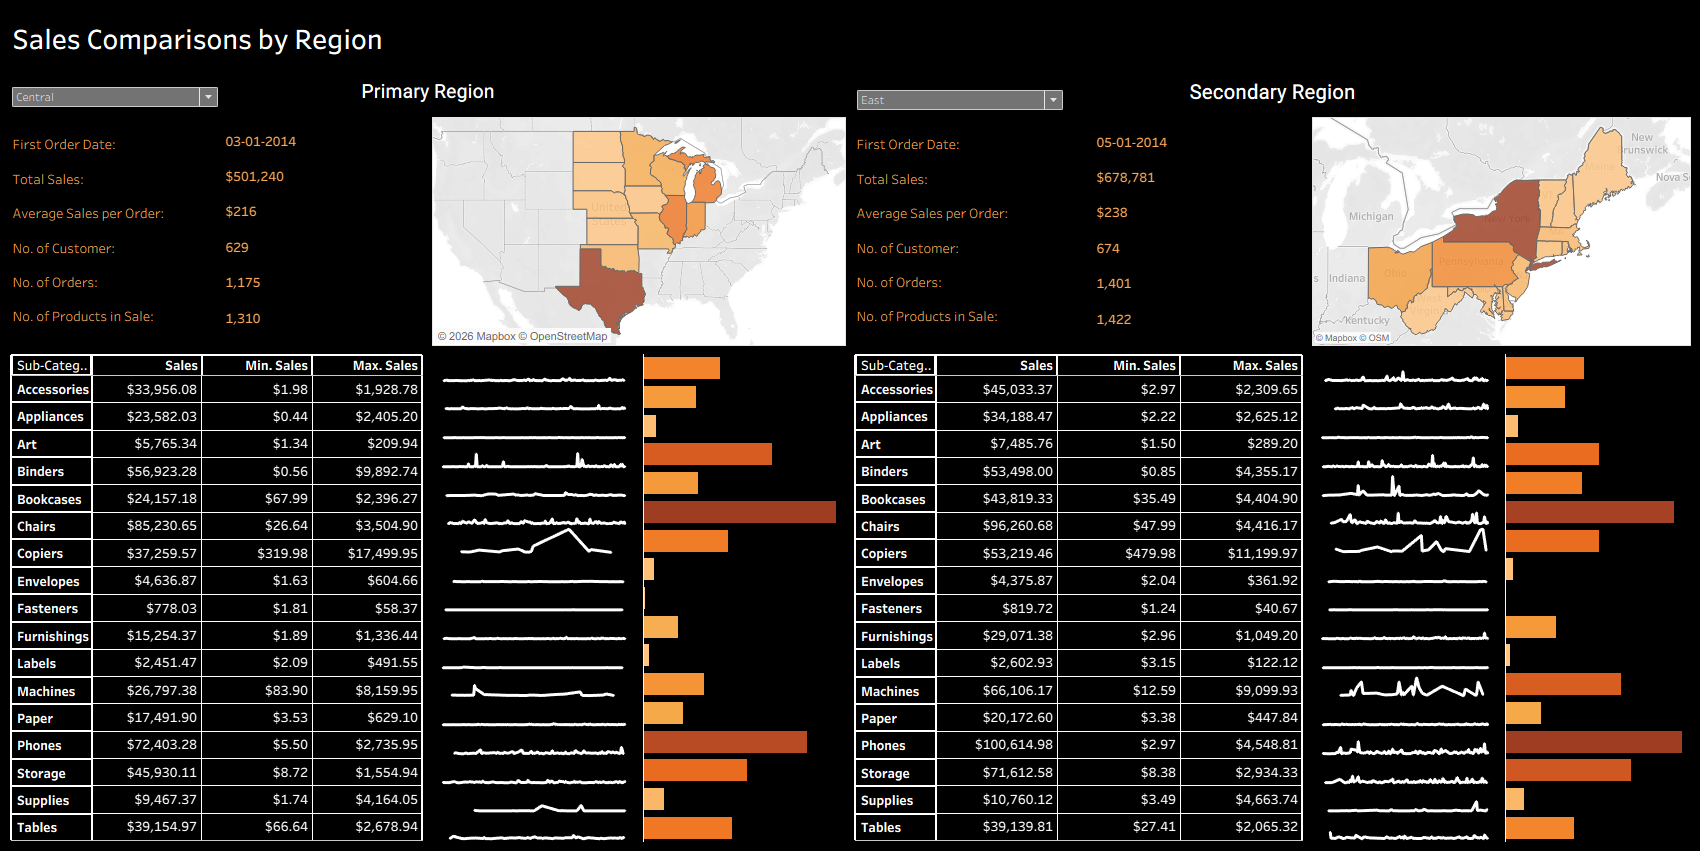

Layout of this report page (visuals, bound fields, positions):
{"tool":"tableau","page":{"name":"Dashboard","canvas":[1000,1000],"units":"permille","ordinal":0},"visuals":[{"type":"text","box":[4.7,9.3,990.6,74.8]},{"type":"text","box":[4.7,84.1,495.3,50.2]},{"type":"text","box":[500,84.1,495.3,50.2]},{"type":"filter","title":"Pr-Map","param":"[federated.1twyp2o1gfbzs41ac3lxf0hi6o0t].[none:Region:nk]","box":[6.4,101.6,124.6,28]},{"type":"filter","title":"SC-Map ","param":"[federated.1twyp2o1gfbzs41ac3lxf0hi6o0t].[none:Region:nk]","box":[502.1,104,124,30.4]},{"type":"text","box":[4.7,134.3,123.8,276.9]},{"type":"worksheet","title":"Pr-Measures","mark":"Automatic","box":[128.5,134.3,123.9,276.9]},{"type":"worksheet","title":"Pr-Map","mark":"Automatic","box":[252.3,134.3,247.7,276.9]},{"type":"text","box":[500,134.3,139.5,276.9]},{"type":"worksheet","title":"SC-Measures","mark":"Automatic","box":[639.4,134.3,129,276.9]},{"type":"worksheet","title":"SC-Map ","mark":"Automatic","box":[768.5,134.3,226.8,276.9]},{"type":"worksheet","title":"Pr-RegSales","mark":"Automatic","rows":["Sub-Category"],"box":[4.7,411.2,247.6,579.4]},{"type":"worksheet","title":"Pr-Sales Line","mark":"Automatic","rows":["Sub-Category","Sales"],"cols":["Order Date"],"box":[252.3,411.2,123.8,579.4]},{"type":"worksheet","title":"Pr-Sales Chart","mark":"Automatic","rows":["Sub-Category"],"cols":["Sales"],"box":[376.1,411.2,123.9,579.4]},{"type":"worksheet","title":"SC-RegSales ","mark":"Automatic","rows":["Sub-Category"],"box":[500,411.2,268.2,579.4]},{"type":"worksheet","title":"SC-Sales Line ","mark":"Automatic","rows":["Sub-Category","Sales"],"cols":["Order Date"],"box":[768.2,411.2,113.5,579.4]},{"type":"worksheet","title":"SC-Sales Chart ","mark":"Automatic","rows":["Sub-Category"],"cols":["Sales"],"box":[881.8,411.2,113.5,579.4]}]}

Visuals, with their boxes on the dashboard's canvas, which has no fixed pixel size, in thousandths of its width and height (x1, y1, x2, y2). These are canvas units, not pixel positions in the 1700x851 screenshot, which may show the page scaled, cropped or inside an application window:
text: <bbox>5, 9, 995, 84</bbox>
text: <bbox>5, 84, 500, 134</bbox>
text: <bbox>500, 84, 995, 134</bbox>
"Pr-Map" filter: <bbox>6, 102, 131, 130</bbox>
"SC-Map " filter: <bbox>502, 104, 626, 134</bbox>
text: <bbox>5, 134, 128, 411</bbox>
"Pr-Measures" worksheet: <bbox>128, 134, 252, 411</bbox>
"Pr-Map" worksheet: <bbox>252, 134, 500, 411</bbox>
text: <bbox>500, 134, 640, 411</bbox>
"SC-Measures" worksheet: <bbox>639, 134, 768, 411</bbox>
"SC-Map " worksheet: <bbox>768, 134, 995, 411</bbox>
"Pr-RegSales" worksheet: <bbox>5, 411, 252, 991</bbox>
"Pr-Sales Line" worksheet: <bbox>252, 411, 376, 991</bbox>
"Pr-Sales Chart" worksheet: <bbox>376, 411, 500, 991</bbox>
"SC-RegSales " worksheet: <bbox>500, 411, 768, 991</bbox>
"SC-Sales Line " worksheet: <bbox>768, 411, 882, 991</bbox>
"SC-Sales Chart " worksheet: <bbox>882, 411, 995, 991</bbox>
